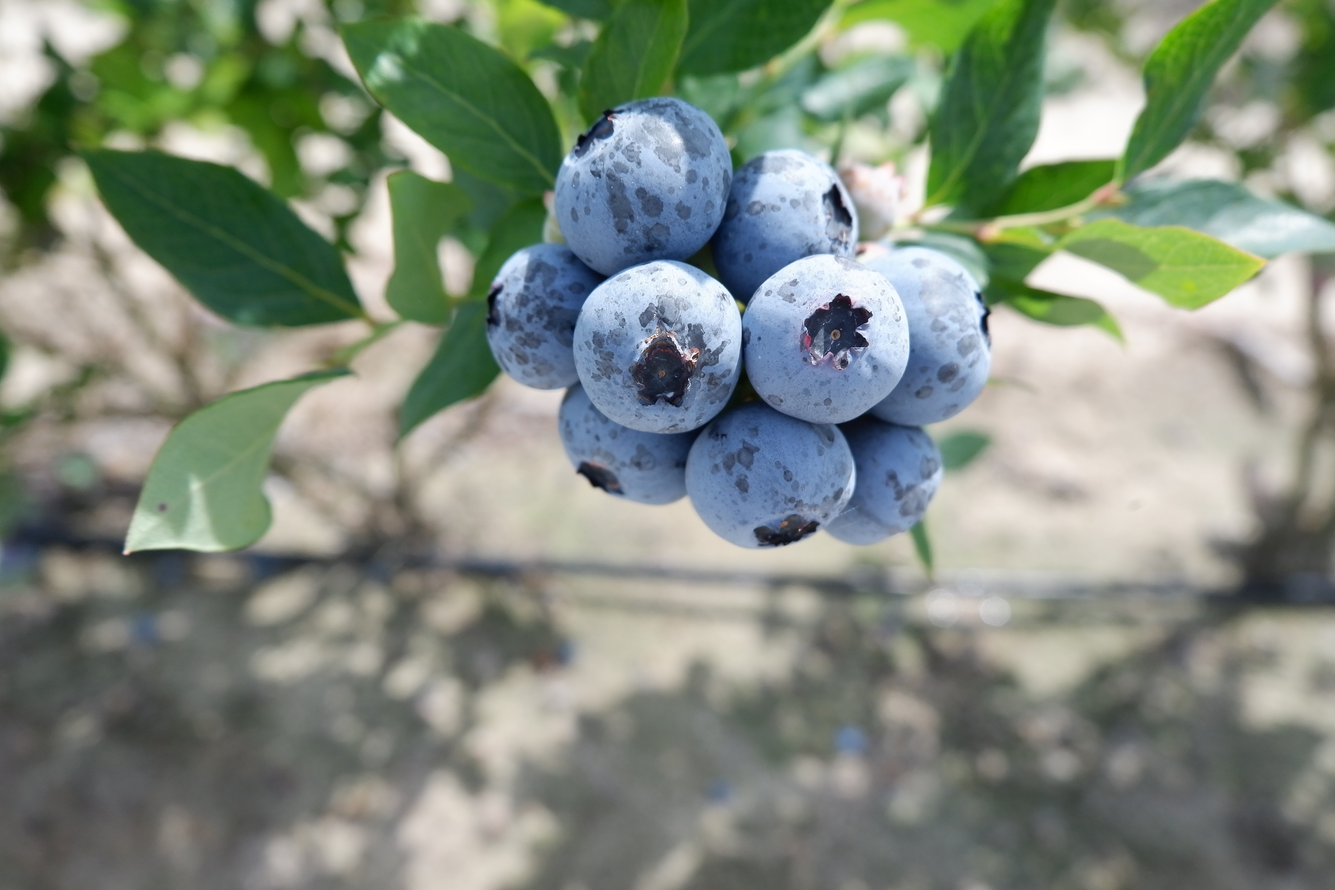Mature: (559, 101, 729, 270), (577, 263, 738, 429), (746, 257, 907, 418), (689, 402, 852, 545), (867, 248, 988, 423), (715, 154, 853, 303), (560, 383, 695, 502), (486, 245, 600, 384), (826, 416, 940, 542)
